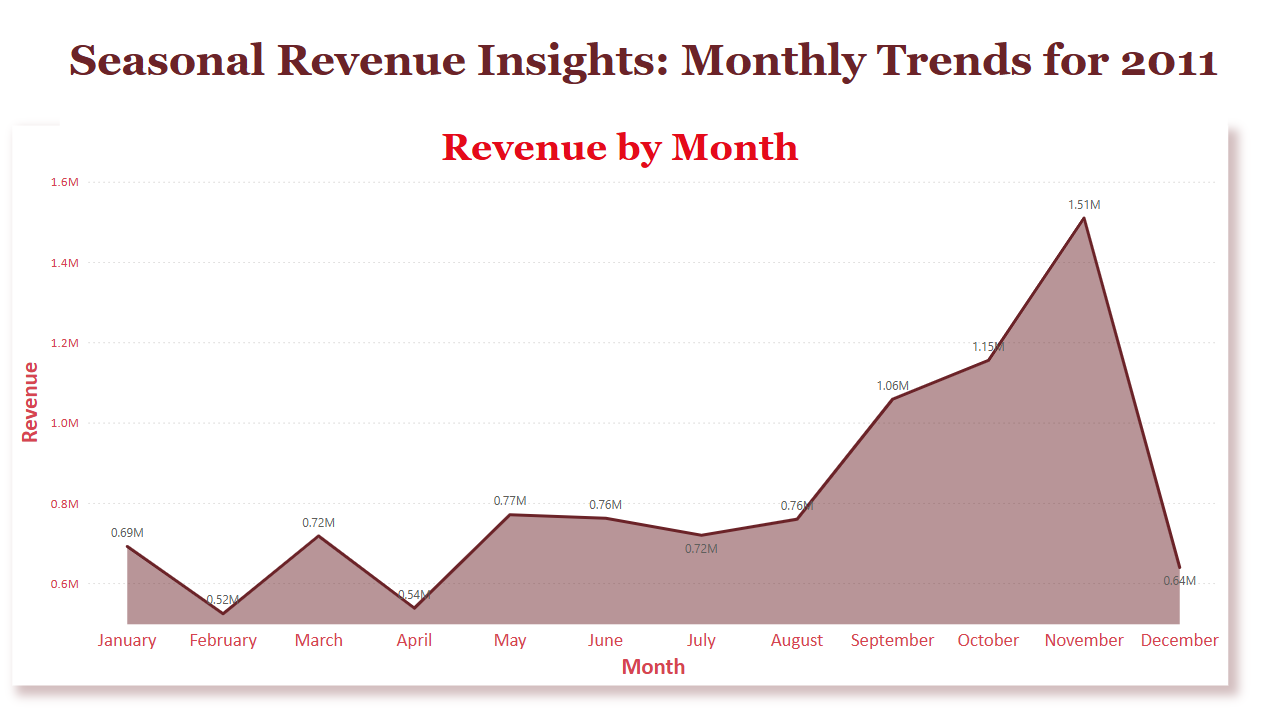

What the dashboard file says about the page in this screenshot:
{"tool":"powerbi","page":{"name":"Page 2","canvas":[1280,720],"ordinal":1},"visuals":[{"type":"lineChart","fields":{"Y":["Sum(Online Retail.Revenue)"],"Category":["Online Retail.InvoiceDate.Variation.Date Hierarchy.Month"]},"box":[16,128,1216,560],"z":0},{"type":"textbox","box":[64,32,1168,96],"z":1000}]}

Visuals, with their boxes in screenshot pixels (x1, y1, x2, y2), scaled from the page's 1280x720 canvas onto the 1272x713 screenshot:
lineChart - Sum(Online Retail.Revenue) x Online Retail.InvoiceDate.Variation.Date Hierarchy.Month: pyautogui.locateOnScreen(16, 127, 1224, 681)
textbox: pyautogui.locateOnScreen(64, 32, 1224, 127)
